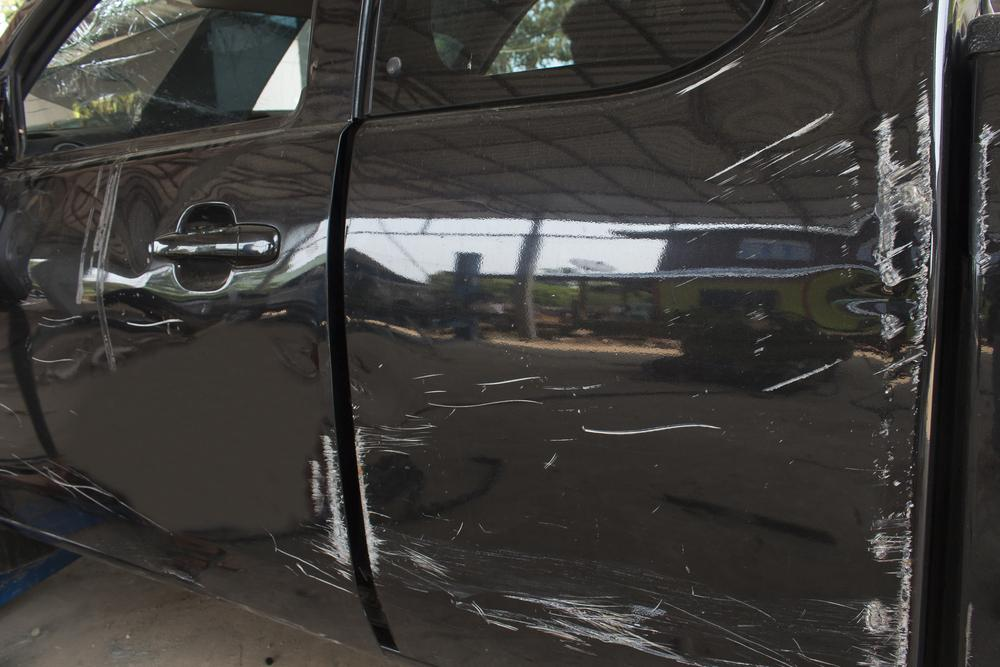dent: (269, 319, 325, 378)
scratch: (353, 67, 939, 667), (0, 311, 177, 556), (266, 428, 362, 599), (970, 112, 1000, 292)
